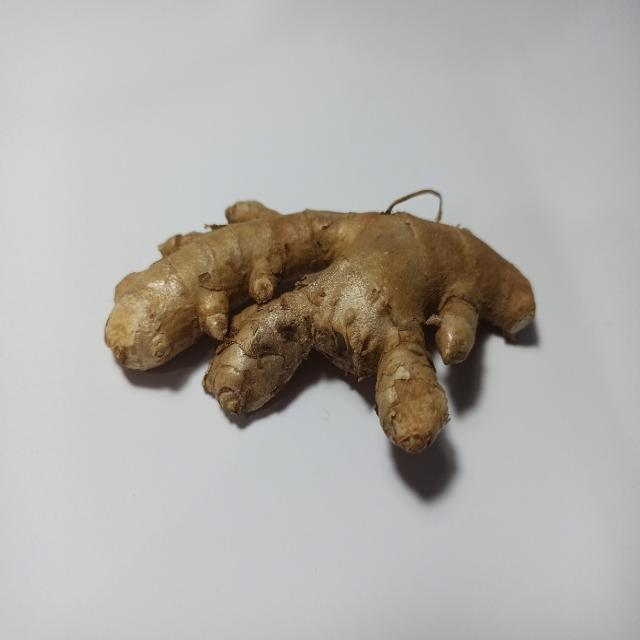ginger: (105, 200, 536, 457)
